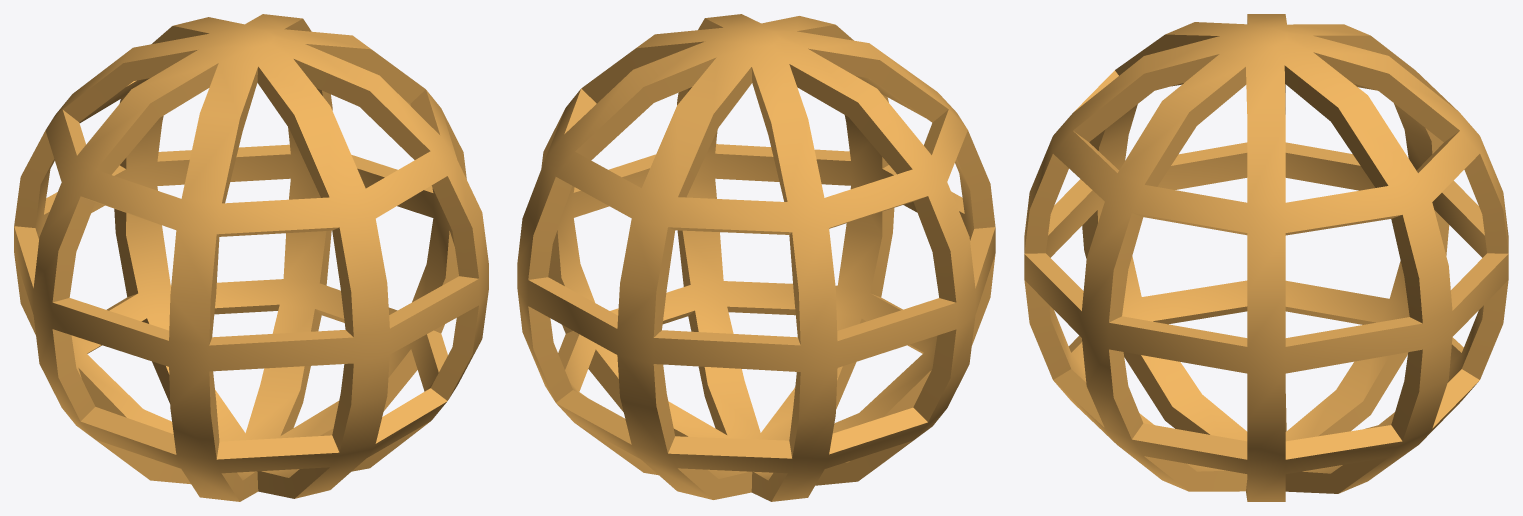
Rendered from SphereMesh_01.fbx.
3 views of the same model, side by side, from view 1: azimuth 30°, elevation 25°; view 2: azimuth 150°, elevation 25°; view 3: azimuth 270°, elevation 25° (orthographic).
Parts seen in each view (by area): view 1: SphereMesh_01; view 2: SphereMesh_01; view 3: SphereMesh_01.
Boxes of the visible parts, <box> form: SphereMesh_01: <box>14,14,488,501</box>; SphereMesh_01: <box>517,14,995,501</box>; SphereMesh_01: <box>1024,14,1508,501</box>.
Size of the model in its own units: 335 by 338 by 335.
